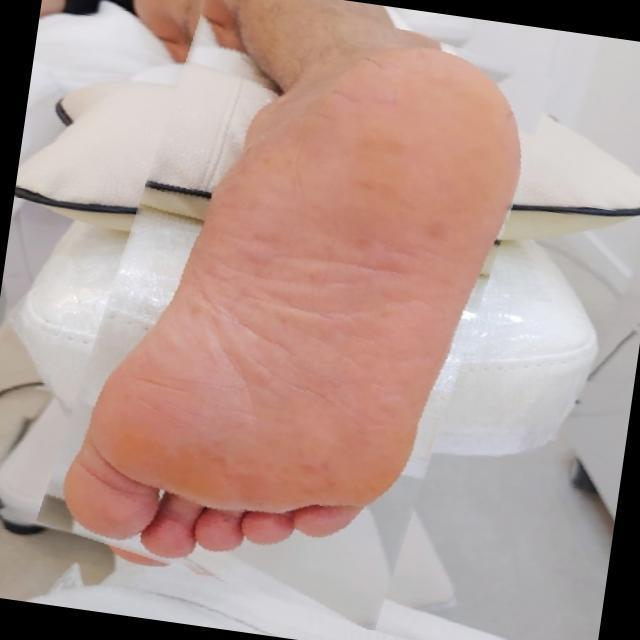No_Shoes: (56, 25, 517, 572)
